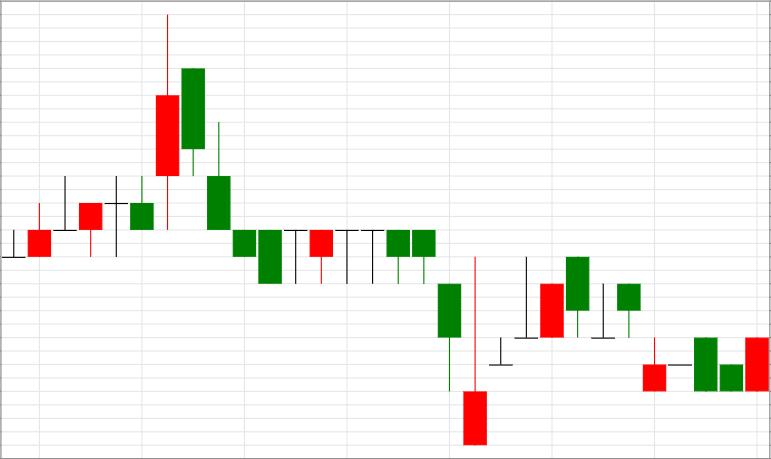bullish_engulfing_rise: (618, 283, 768, 391)
inverse_hammer_rise: (387, 229, 487, 446)
three_black_crows_fall: (131, 14, 256, 257)
